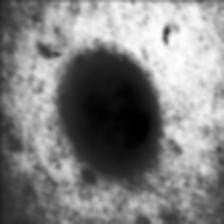Potentially Malignant Skin Tumors: (79, 64, 151, 180)
